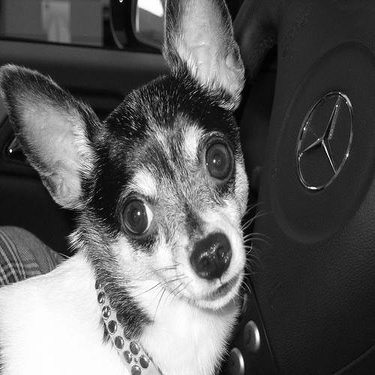dog: (1, 4, 269, 366)
